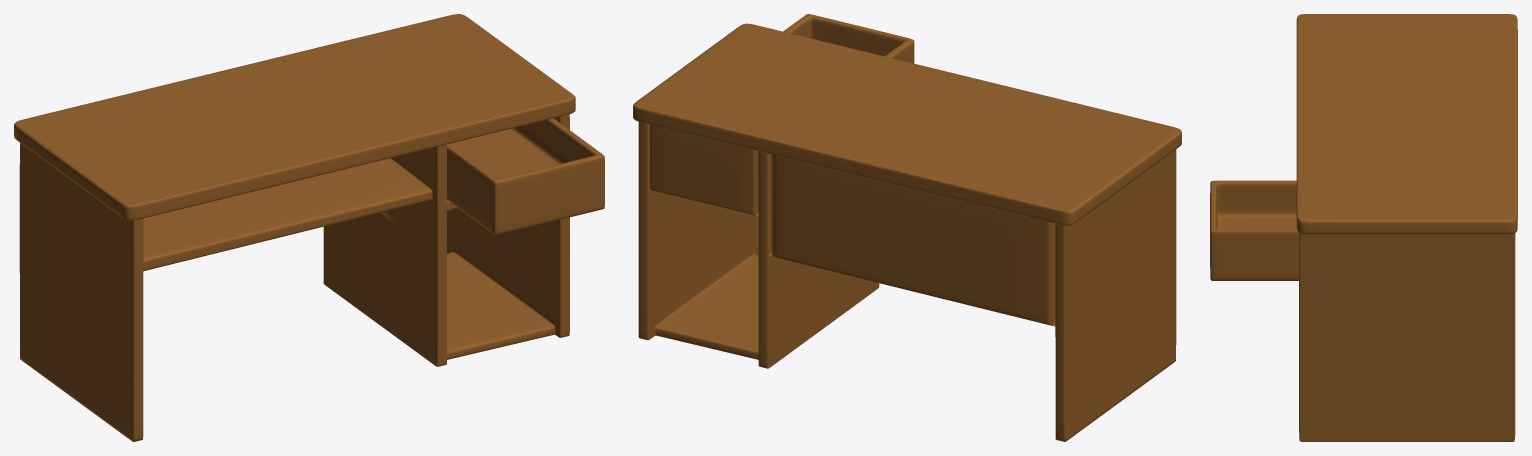
The model's file is tietokonepöytä.fbx.
The picture shows the model from 3 angles, left to right: view 1: azimuth 30°, elevation 25°; view 2: azimuth 150°, elevation 25°; view 3: azimuth 270°, elevation 25°; orthographic projection. The views are drawn at different scales.
Visible parts, largest first — view 1: pöytä; view 2: pöytä; view 3: pöytä.
Part boxes in pixels (x1,y1,x2,y2): pöytä: (14, 14, 604, 441); pöytä: (633, 14, 1181, 441); pöytä: (1210, 14, 1517, 441).
Bounding box in the file's own units: 170 × 85.85 × 106.
